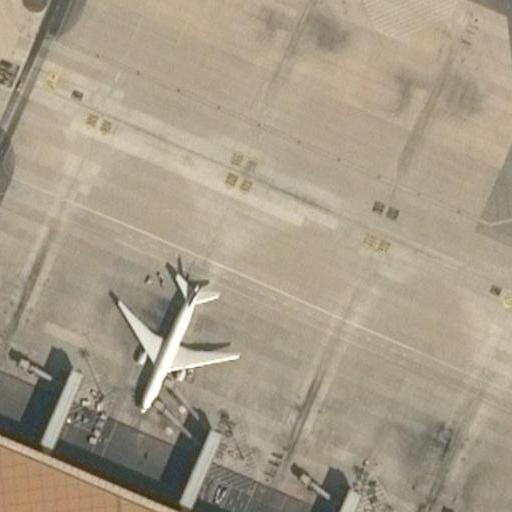Aircraft: (106, 246, 241, 405)
